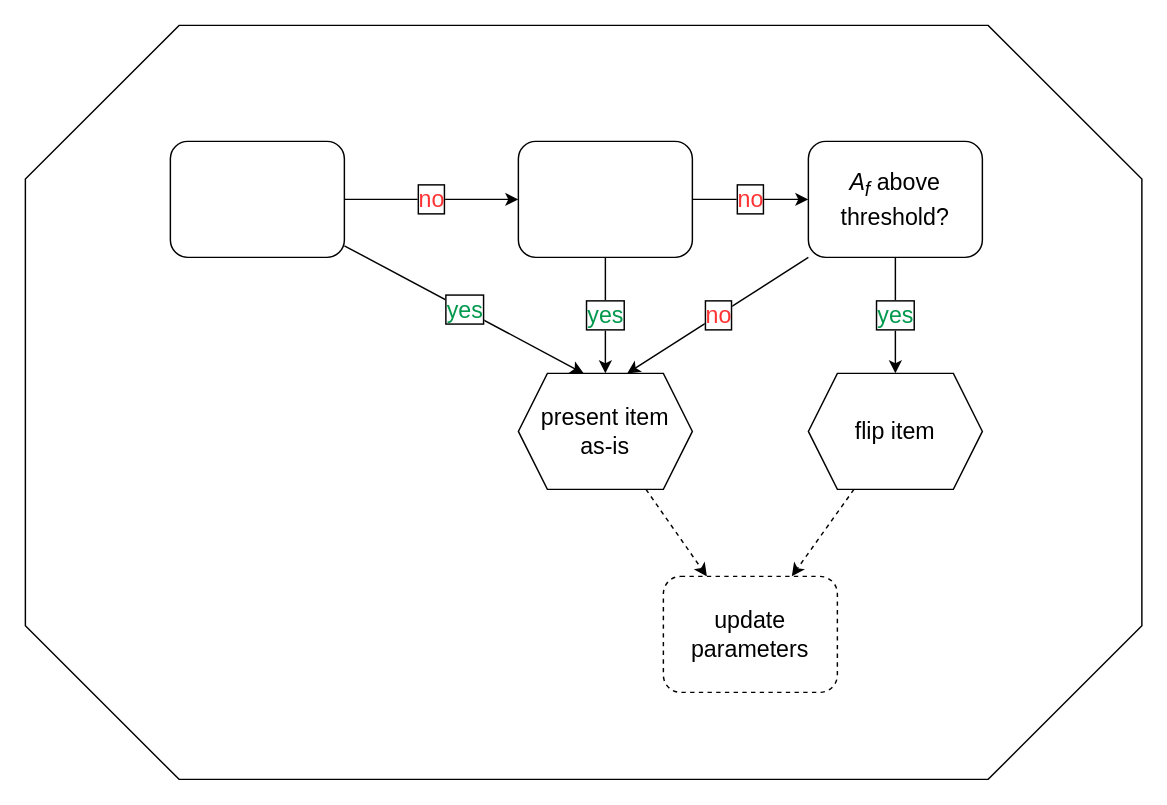
The diagram is 1167 pixels wide and 805 high, and some of its shapes have lost their labels. Here are the shapes that lost their labels. From the top down, the centre of each, then its label:
At [256,198]: "Is it a novel item?".
At [604,198]: "has the item been flipped in n last turns?".
